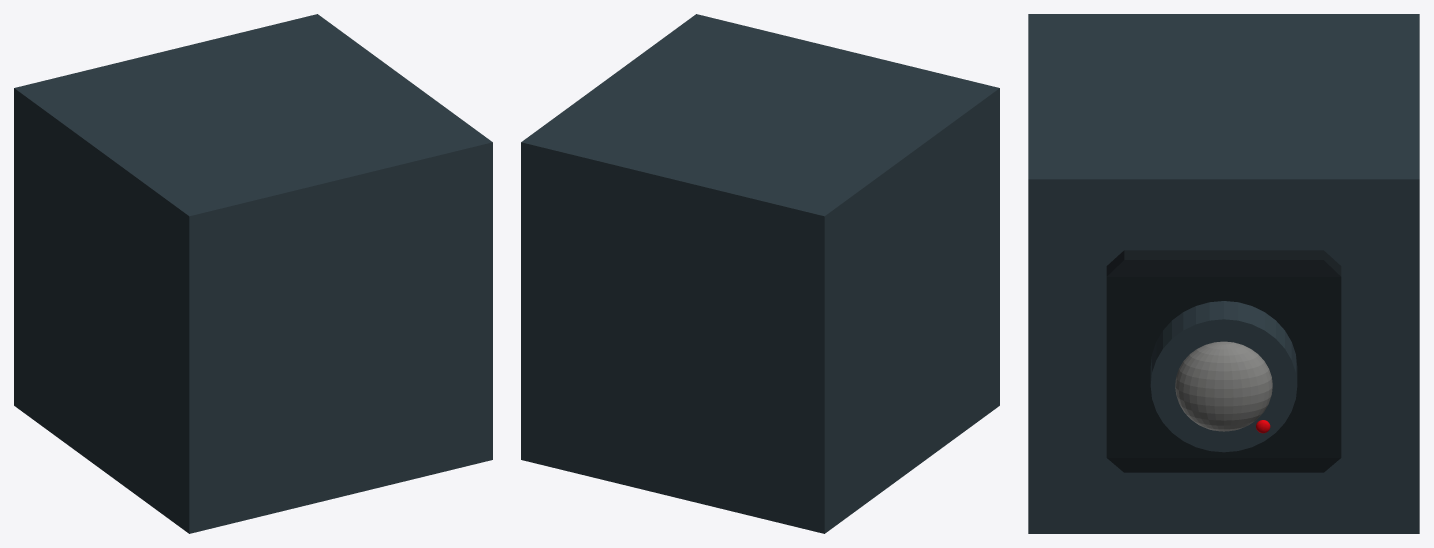
Rendered from MOD_Camera.fbx.
The picture shows the model from 3 angles, left to right: view 1: azimuth 30°, elevation 25°; view 2: azimuth 150°, elevation 25°; view 3: azimuth 270°, elevation 25°; orthographic projection. The views are drawn at different scales.
Visible parts, largest first — view 1: Body; view 2: Body; view 3: Body, Guard, Ring_Back, Lens.
Boxes of the visible parts, x1,y1,x2,y2 form: Body: [14, 14, 492, 533]; Body: [521, 14, 999, 533]; Body: [1028, 14, 1419, 533]; Guard: [1106, 250, 1341, 472]; Ring_Back: [1150, 301, 1297, 452]; Lens: [1175, 341, 1272, 431].
Size of the model in its own units: 125 by 100 by 100.
